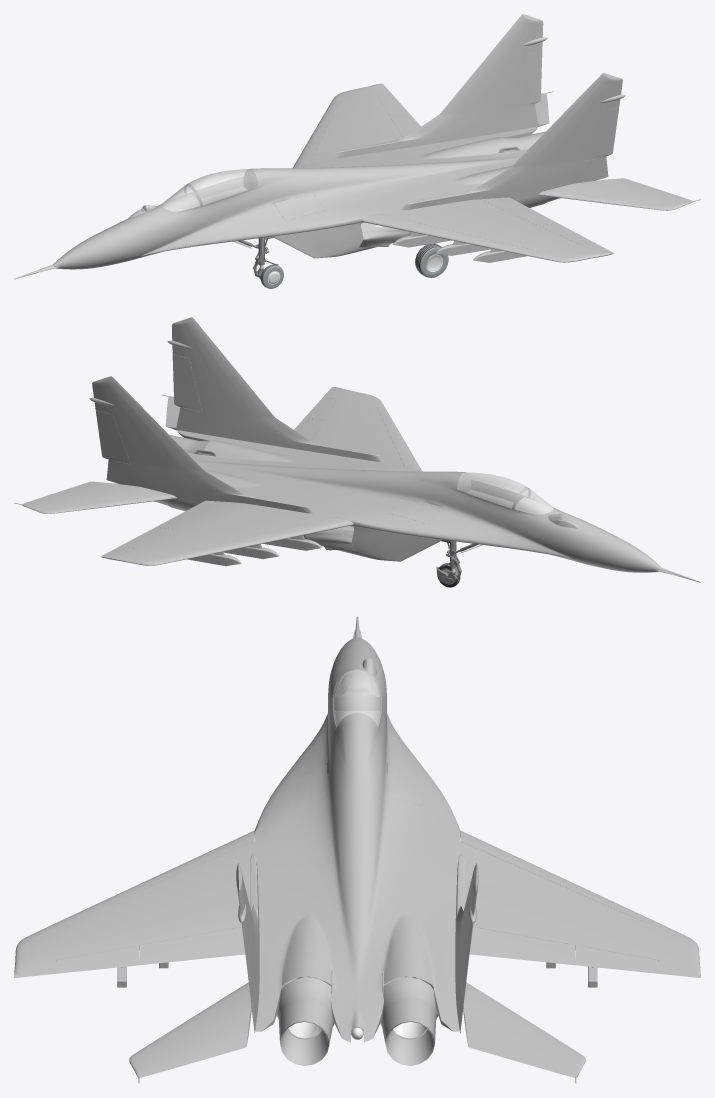
3 views of the same model, one above another, from view 1: azimuth 30°, elevation 25°; view 2: azimuth 150°, elevation 25°; view 3: azimuth 270°, elevation 25° (orthographic). The views are drawn at different scales.
Parts seen in each view (by area): view 1: Group001, object01_Mig29_Glass_0, object09_MIG29_Tire_0, object08_MIG29_suspantion_0; view 2: Group001, object01_Mig29_Glass_0, object08_MIG29_suspantion_0; view 3: Group001, object01_Mig29_Glass_0, object00_MIG29_Engine_0.
Boxes of the visible parts, x1,y1,x2,y2 form: Group001: (14,14,700,279); object01_Mig29_Glass_0: (160,169,257,211); object09_MIG29_Tire_0: (415,243,448,277); object08_MIG29_suspantion_0: (238,237,278,279); Group001: (14,317,700,582); object01_Mig29_Glass_0: (457,472,554,514); object08_MIG29_suspantion_0: (436,540,478,584); Group001: (14,616,700,1083); object01_Mig29_Glass_0: (332,669,382,727); object00_MIG29_Engine_0: (287,976,427,1039).
Size of the model in its own units: 1740 by 463 by 1142.
